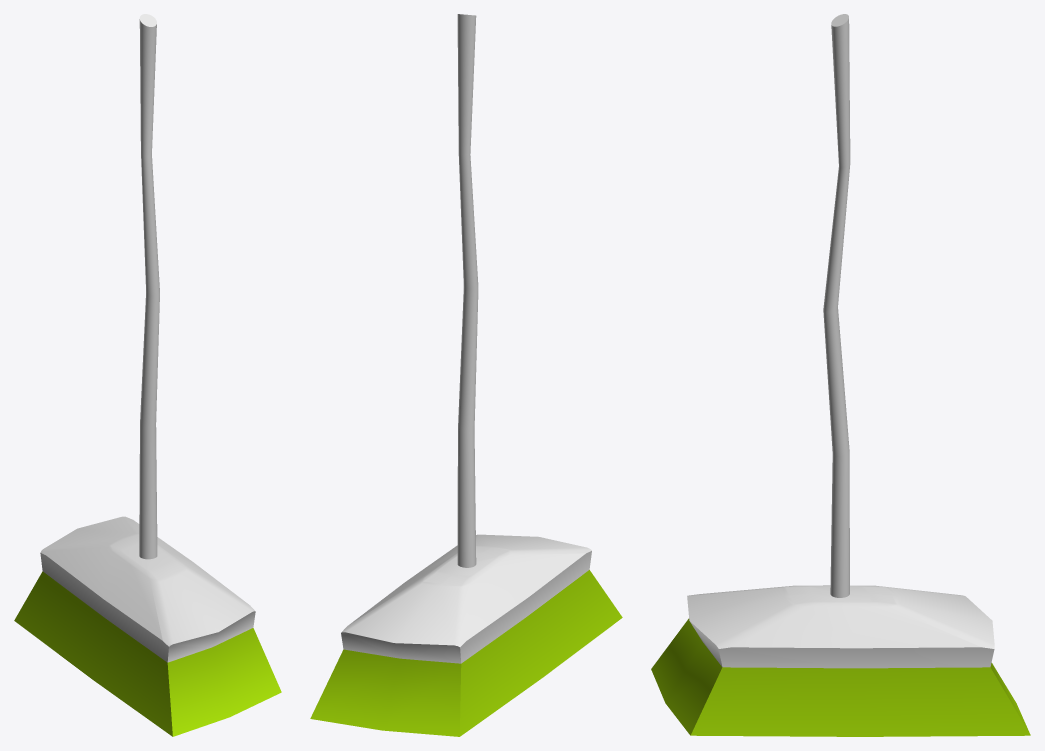
The model's file is sweep 1.fbx.
3 renders of one model, left to right at view 1: azimuth 30°, elevation 25°; view 2: azimuth 150°, elevation 25°; view 3: azimuth 270°, elevation 25°, orthographic. The views are drawn at different scales.
Parts seen in each view (by area): view 1: Cube, Cube.001; view 2: Cube, Cube.001; view 3: Cube, Cube.001.
Boxes of the visible parts, box(x1,y1,x2,y2) form: Cube: box(14, 516, 281, 736); Cube.001: box(139, 14, 159, 559); Cube: box(310, 534, 622, 736); Cube.001: box(457, 14, 478, 567); Cube: box(651, 585, 1030, 736); Cube.001: box(823, 14, 850, 597).
Size of the model in its own units: 78.36 by 374 by 187.
